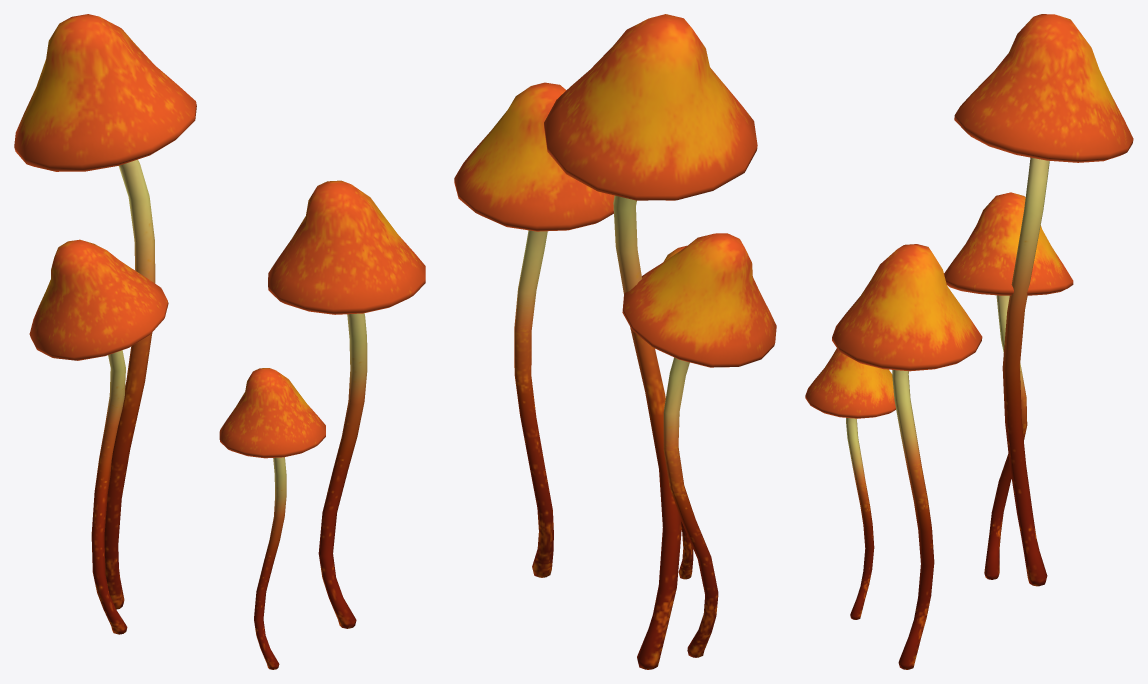
Rendered from Cartoon Seaweed_13-1-30.fbx.
3 views of the same model, side by side, from view 1: azimuth 30°, elevation 25°; view 2: azimuth 150°, elevation 25°; view 3: azimuth 270°, elevation 25° (orthographic). The views are drawn at different scales.
Visible parts, largest first — view 1: Cartoon Seaweed_13.1.30; view 2: Cartoon Seaweed_13.1.30; view 3: Cartoon Seaweed_13.1.30.
Boxes of the visible parts, <box> form: Cartoon Seaweed_13.1.30: <box>14,14,425,669</box>; Cartoon Seaweed_13.1.30: <box>454,14,776,669</box>; Cartoon Seaweed_13.1.30: <box>805,14,1133,669</box>.
Size of the model in its own units: 14.73 by 26.18 by 13.73.
Materials: 1 (1 with a texture image).
